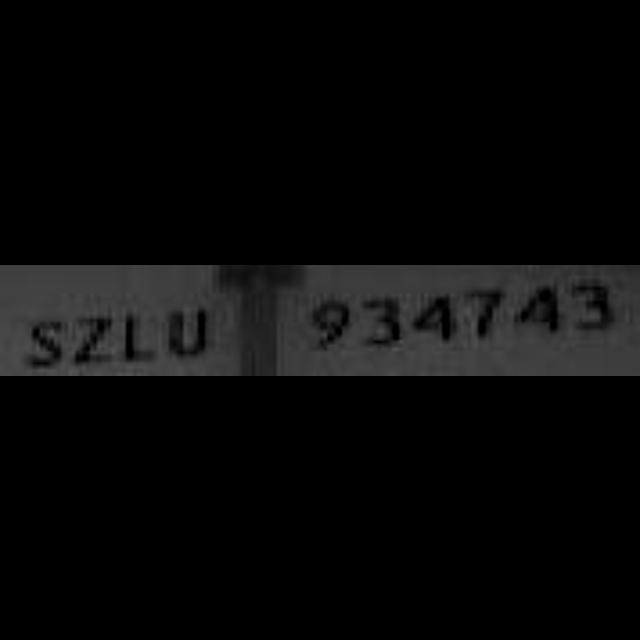3: (358, 288, 409, 360), (566, 270, 618, 340)
4: (406, 282, 459, 356), (514, 275, 564, 353)
7: (460, 277, 512, 351)
9: (306, 290, 356, 360)
l: (120, 306, 160, 374)
s: (22, 314, 68, 376)
u: (164, 301, 212, 369)
z: (72, 307, 122, 373)
